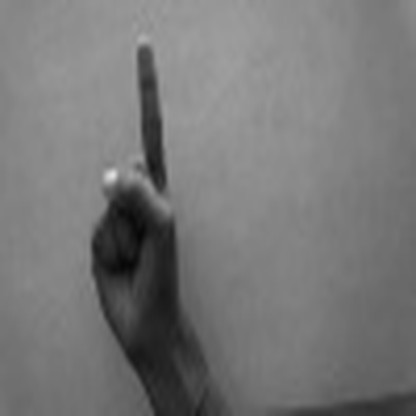d: (74, 30, 197, 357)
